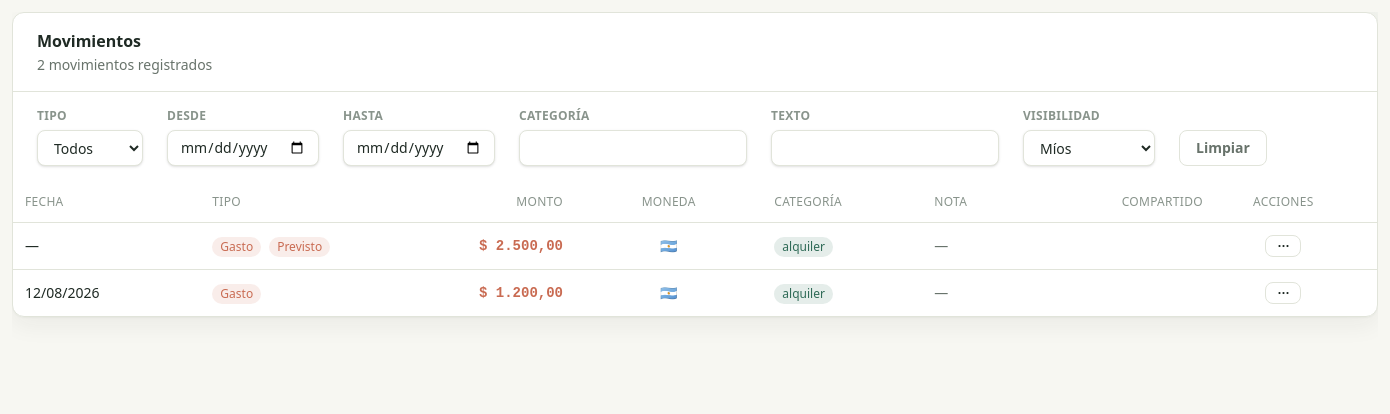
Test: MovementList › renders a PENDING row with the Previsto badge and a Marcar pagado action on own rows
Expected: the table is shown, [13, 182, 1377, 316]
Expected: the text "Previsto" is shown, [269, 236, 330, 256]
Click the button named "abrir acciones" at point(1283, 246), box [1265, 235, 1301, 257]
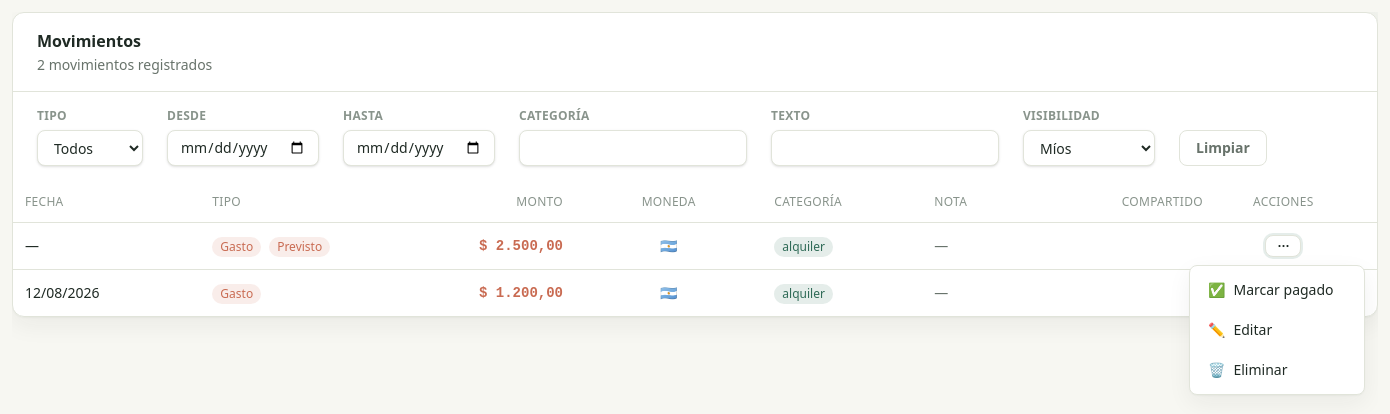
Expected: the button "✅ Marcar pagado" is shown, [1196, 272, 1358, 308]
